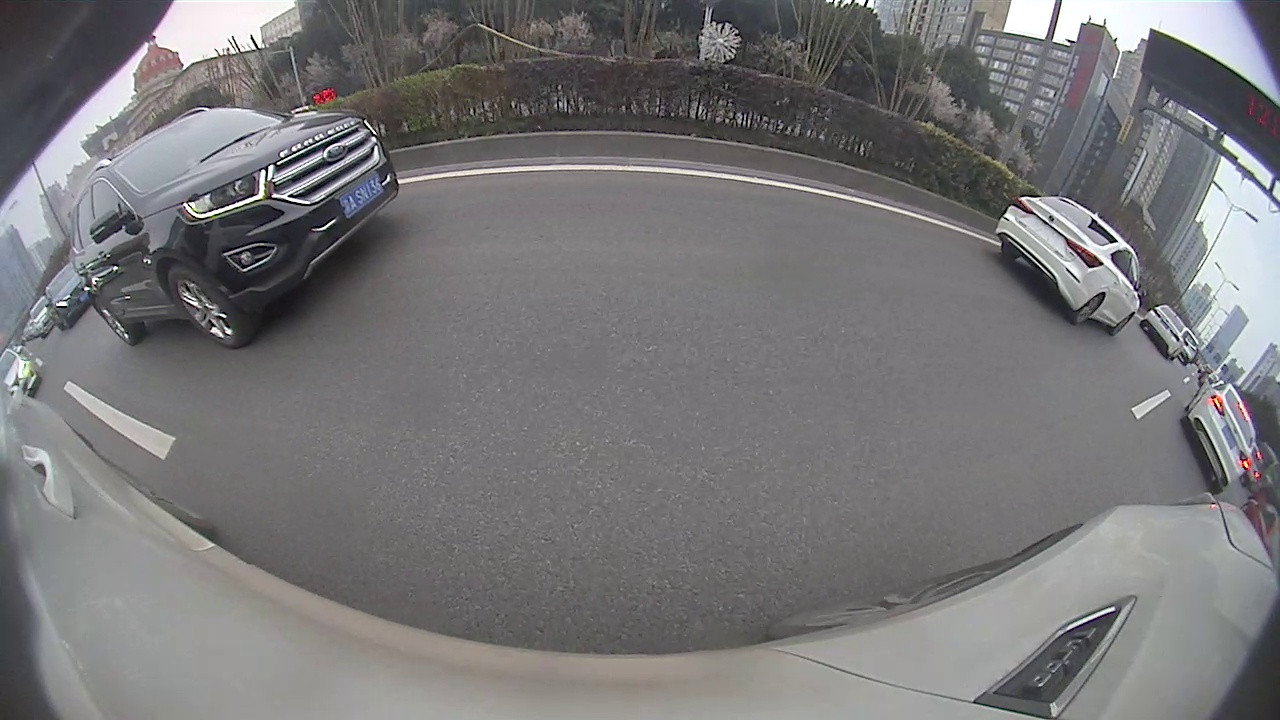car: (68, 105, 401, 352), (993, 193, 1148, 338), (1178, 376, 1257, 495), (43, 266, 91, 331), (1138, 304, 1189, 362)
front: (166, 269, 245, 349)
rear: (94, 299, 133, 343), (1075, 298, 1105, 324)
